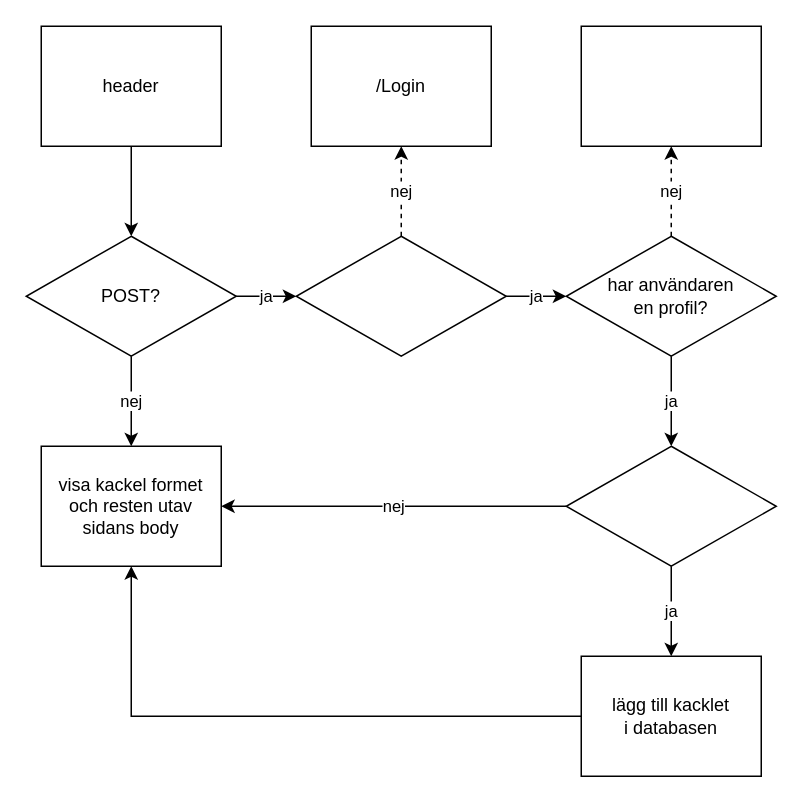
Image size: 803x803. Some labels were removed from this diagram. Each missing label, with the centre of its shape:
/Profiles/Profile: (x=670, y=85)
nytt kackel form validerar?: (x=670, y=505)
är användaren inloggad?: (x=400, y=295)
